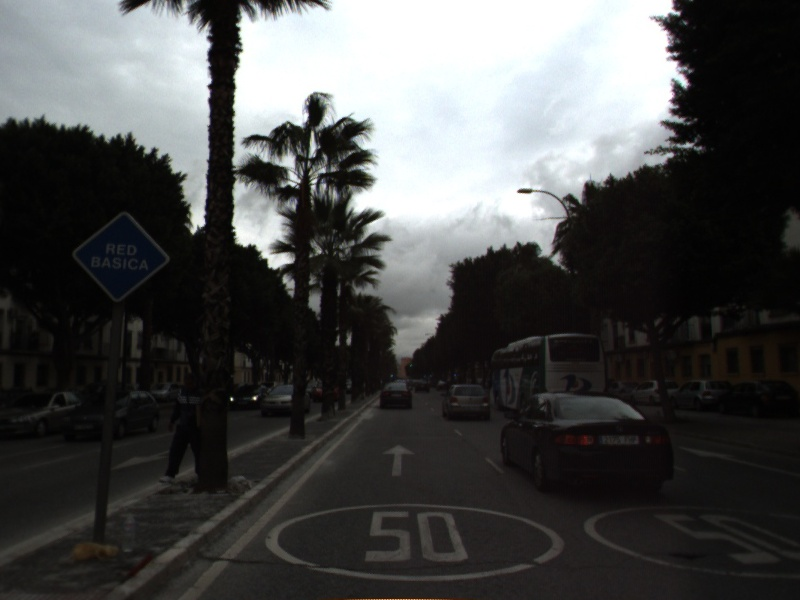STRAIGHT: (676, 444, 800, 478), (381, 442, 417, 478)
